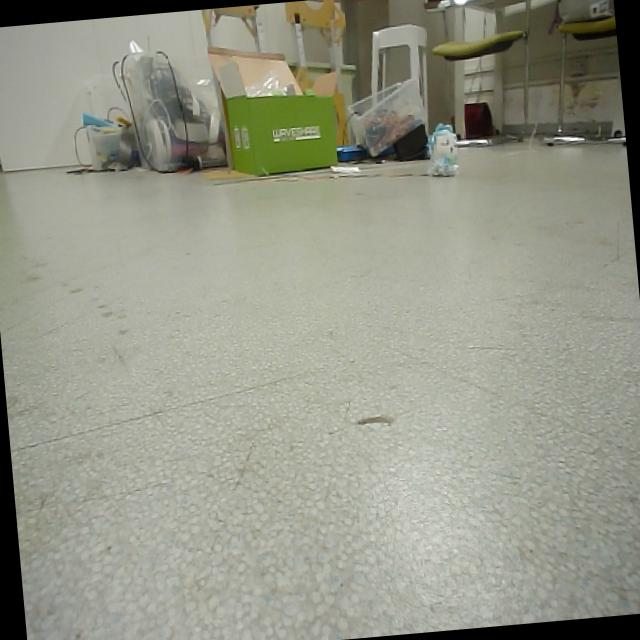xiaoba: (425, 116, 461, 180)
